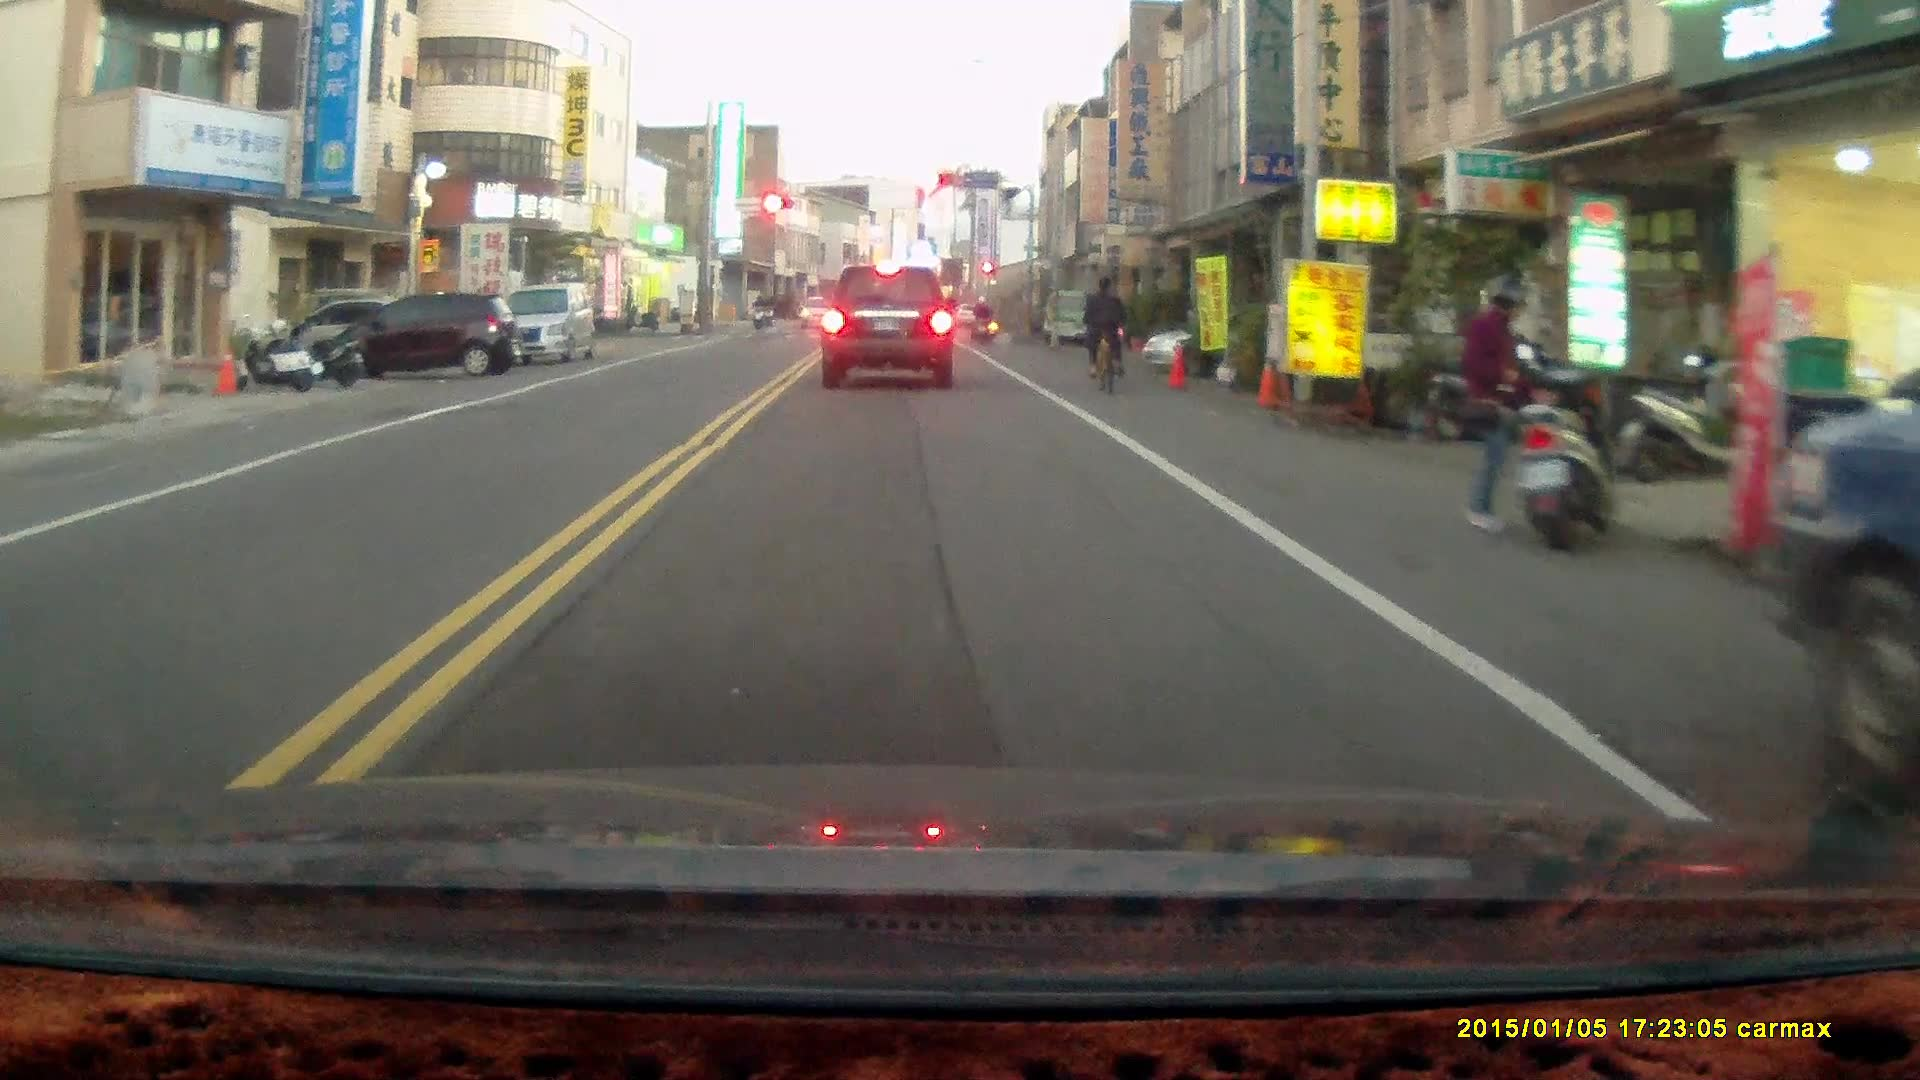pedestrian: (1456, 273, 1542, 532)
rider: (1074, 273, 1130, 394), (970, 292, 994, 345), (748, 291, 769, 330)
vehicle: (1759, 375, 1920, 813), (329, 288, 520, 385), (820, 264, 958, 392), (1142, 309, 1367, 379), (476, 281, 599, 366)
